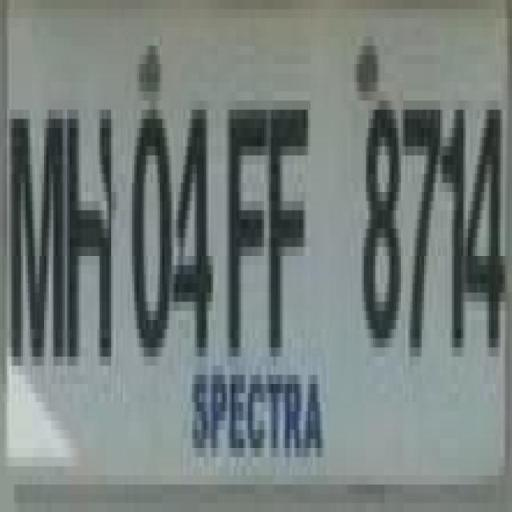number plate: (2, 0, 484, 485)
